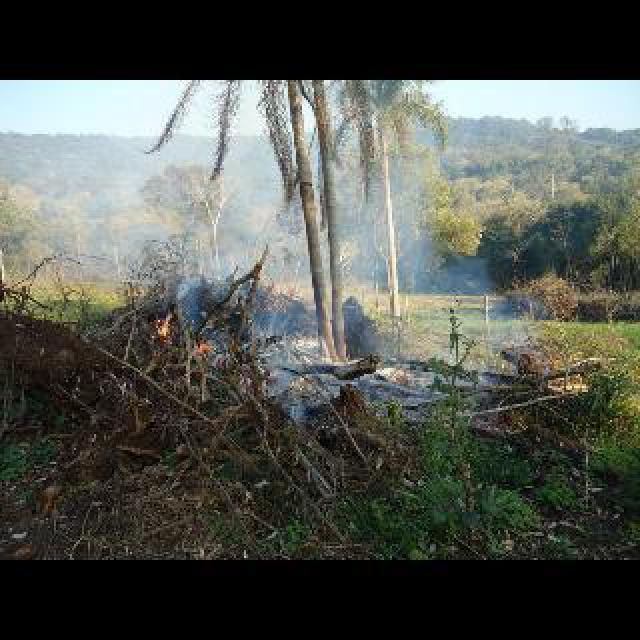Fire: (152, 304, 180, 350), (190, 338, 230, 364)
